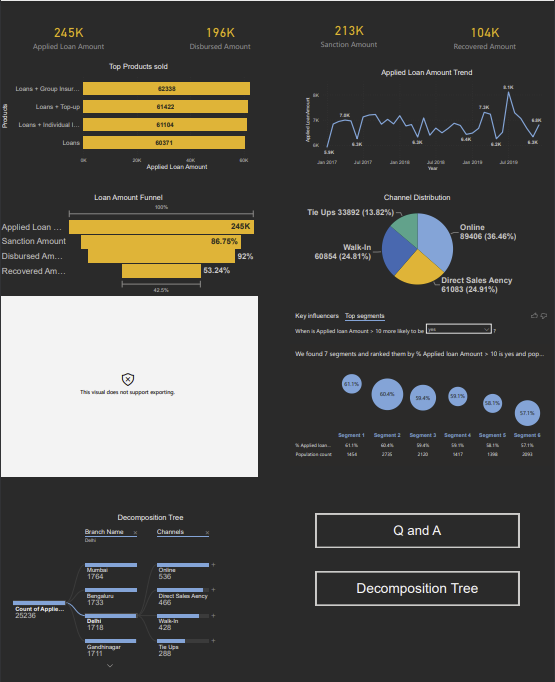

This screenshot's page, from the dashboard's own definition file:
{"tool":"powerbi","page":{"name":"Dashboard","canvas":[1400,2000],"ordinal":0},"visuals":[{"type":"advanceCardE03760C5AB684758B56AA29F9E6C257B","fields":{"mainMeasure":["Customer.Applied Loan Amount"]},"box":[0,8.6,347.1,160],"z":0},{"type":"advanceCardE03760C5AB684758B56AA29F9E6C257B","fields":{"mainMeasure":["Sanction Data.Sanction Amount"]},"box":[757.1,0,248.6,168.6],"z":1000},{"type":"advanceCardE03760C5AB684758B56AA29F9E6C257B","fields":{"mainMeasure":["Sanction Data.Disbursed Amount"]},"box":[382.9,8.6,348.6,160],"z":2000},{"type":"advanceCardE03760C5AB684758B56AA29F9E6C257B","fields":{"mainMeasure":["Recovery Data.Recovered Amount"]},"box":[1052.9,8.6,347.1,160],"z":3000},{"type":"funnel","title":"Loan Amount Funnel","fields":{"Y":["Customer.Applied Loan Amount","Sanction Data.Sanction Amount","Sanction Data.Disbursed Amount","Recovery Data.Recovered Amount"]},"box":[0,484,650,260],"z":4000},{"type":"lineChart","title":"Applied Loan Amount Trend","fields":{"Y":["Customer.Applied Loan Amount"],"Category":["Dates.month yr.Variation.Date Hierarchy.Year","Dates.month yr.Variation.Date Hierarchy.Quarter","Dates.month yr.Variation.Date Hierarchy.Month"]},"box":[768,168,622,264],"z":5000},{"type":"barChart","title":"Top Products sold","fields":{"Y":["Customer.Applied Loan Amount"],"Category":["Product.Products"]},"box":[0,152,700,280],"z":6000},{"type":"pieChart","title":"Channel Distribution","fields":{"Y":["Customer.Applied Loan Amount"],"Category":["Channel.Channels"]},"box":[720,484,670,260],"z":7000},{"type":"esriVisual","title":"Branch Distribution","fields":{"Size":["Customer.Applied Loan Amount"],"FindSimilar":["Recovery Data.Recovered Amount"],"Latitude":["Branch.Branch Latitute"],"Longitude":["Branch.Branch Longitude"],"Color":["Customer.Applied loan Amount > 10"]},"box":[0,744,650,456],"z":8000},{"type":"keyDriversVisual","title":"Loan Amount Funnel","fields":{"Target":["Customer.Applied loan Amount > 10"],"ExplainBy":["Customer.Occupation","Customer.Age","Branch.Branch Name","Channel.Channels","Product.Products","Customer.Salary","Customer.Gender"]},"box":[730,770,670,406],"z":9000},{"type":"decompositionTreeVisual","title":"Decomposition Tree","fields":{"ExplainBy":["Branch.Branch Name","Channel.Channels","Recovery Data.Customer Number","Customer.Gender","Customer.Salary"],"Analyze":["CountNonNull(Customer.Applied loan Amount > 10)"]},"box":[4.7,1293,753.5,414],"z":10000},{"type":"actionButton","box":[797.7,1293,514,86],"z":12000},{"type":"actionButton","box":[797.7,1439.5,514,86],"z":13000}]}

Visuals, with their boxes on the page's 1400x2000 design canvas (x1, y1, x2, y2). These are canvas units, not pixel positions in the 555x682 screenshot, which may show the page scaled, cropped or inside an application window:
advanceCardE03760C5AB684758B56AA29F9E6C257B - Customer.Applied Loan Amount: rect(0, 9, 347, 169)
advanceCardE03760C5AB684758B56AA29F9E6C257B - Sanction Data.Sanction Amount: rect(757, 0, 1006, 169)
advanceCardE03760C5AB684758B56AA29F9E6C257B - Sanction Data.Disbursed Amount: rect(383, 9, 732, 169)
advanceCardE03760C5AB684758B56AA29F9E6C257B - Recovery Data.Recovered Amount: rect(1053, 9, 1400, 169)
"Loan Amount Funnel" funnel: rect(0, 484, 650, 744)
"Applied Loan Amount Trend" lineChart: rect(768, 168, 1390, 432)
"Top Products sold" barChart: rect(0, 152, 700, 432)
"Channel Distribution" pieChart: rect(720, 484, 1390, 744)
"Branch Distribution" esriVisual: rect(0, 744, 650, 1200)
"Loan Amount Funnel" keyDriversVisual: rect(730, 770, 1400, 1176)
"Decomposition Tree" decompositionTreeVisual: rect(5, 1293, 758, 1707)
actionButton: rect(798, 1293, 1312, 1379)
actionButton: rect(798, 1440, 1312, 1526)
